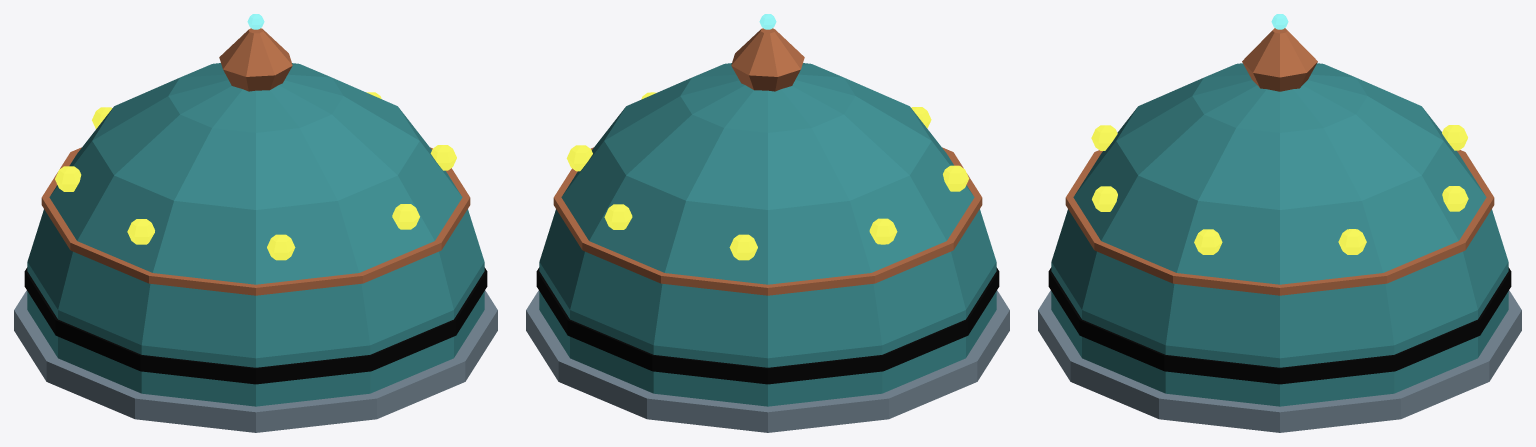
Rendered from City_Dome.fbx.
3 renders of one model, left to right at view 1: azimuth 30°, elevation 25°; view 2: azimuth 150°, elevation 25°; view 3: azimuth 270°, elevation 25°, orthographic.
Parts seen in each view (by area): view 1: City_Dome; view 2: City_Dome; view 3: City_Dome.
Part boxes in pixels (bbox=[...]): City_Dome: bbox=[14, 14, 497, 432]; City_Dome: bbox=[526, 14, 1009, 432]; City_Dome: bbox=[1038, 14, 1521, 432].
Bounding box in the file's own units: 25.4 × 25.4 × 18.35.
